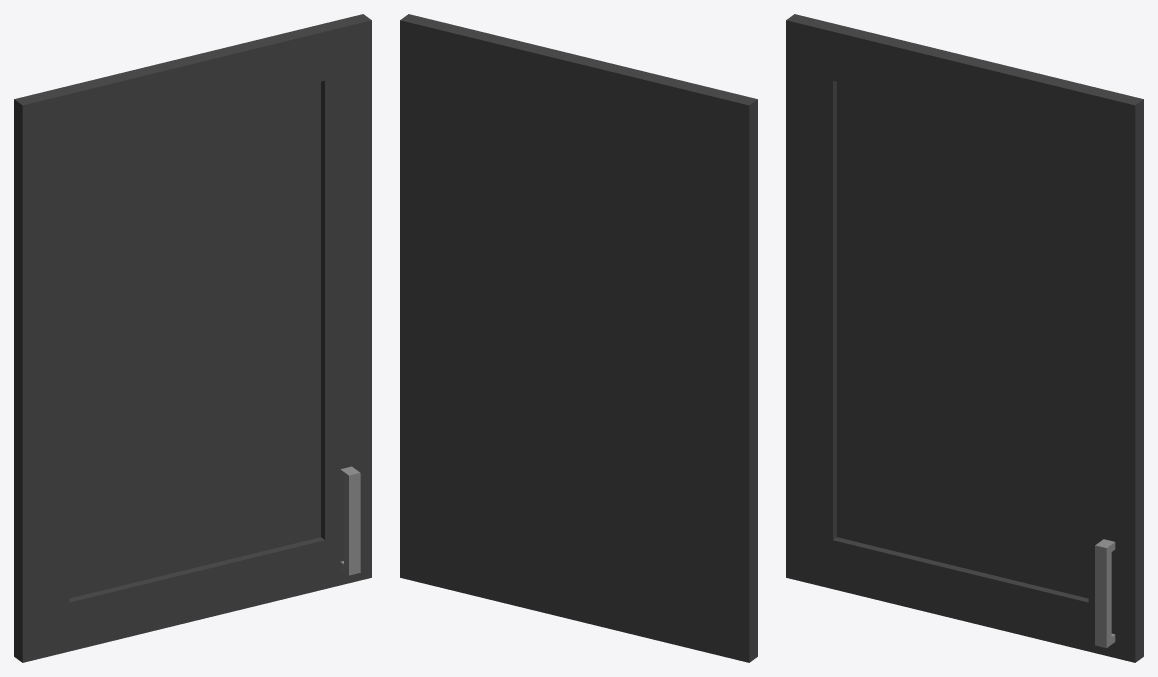
File: Door2_C3_12.fbx
3 renders of one model, left to right at view 1: azimuth 30°, elevation 25°; view 2: azimuth 150°, elevation 25°; view 3: azimuth 330°, elevation 25°, orthographic.
Parts seen in each view (by area): view 1: Door2_C3_12; view 2: Door2_C3_12; view 3: Door2_C3_12.
Part boxes in pixels (x1,y1,x2,y2): Door2_C3_12: (14, 14, 371, 662); Door2_C3_12: (400, 14, 757, 662); Door2_C3_12: (786, 14, 1143, 662).
Bounding box in the file's own units: 59 × 90 × 5.03.
